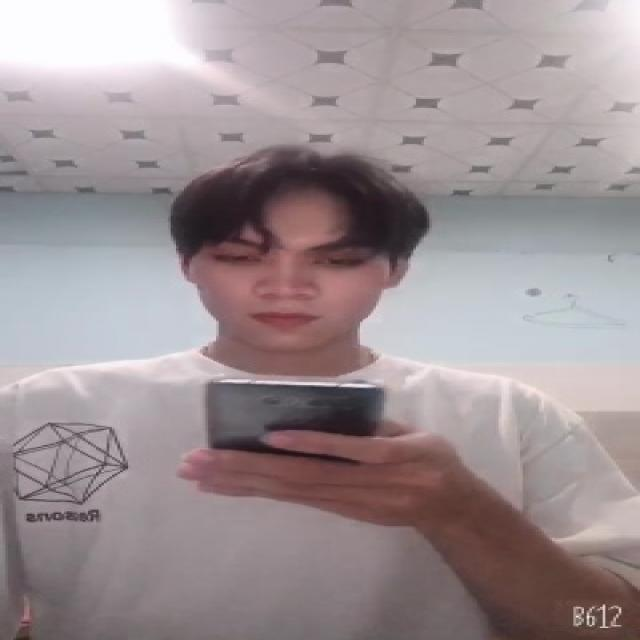Phone: (200, 372, 392, 451)
